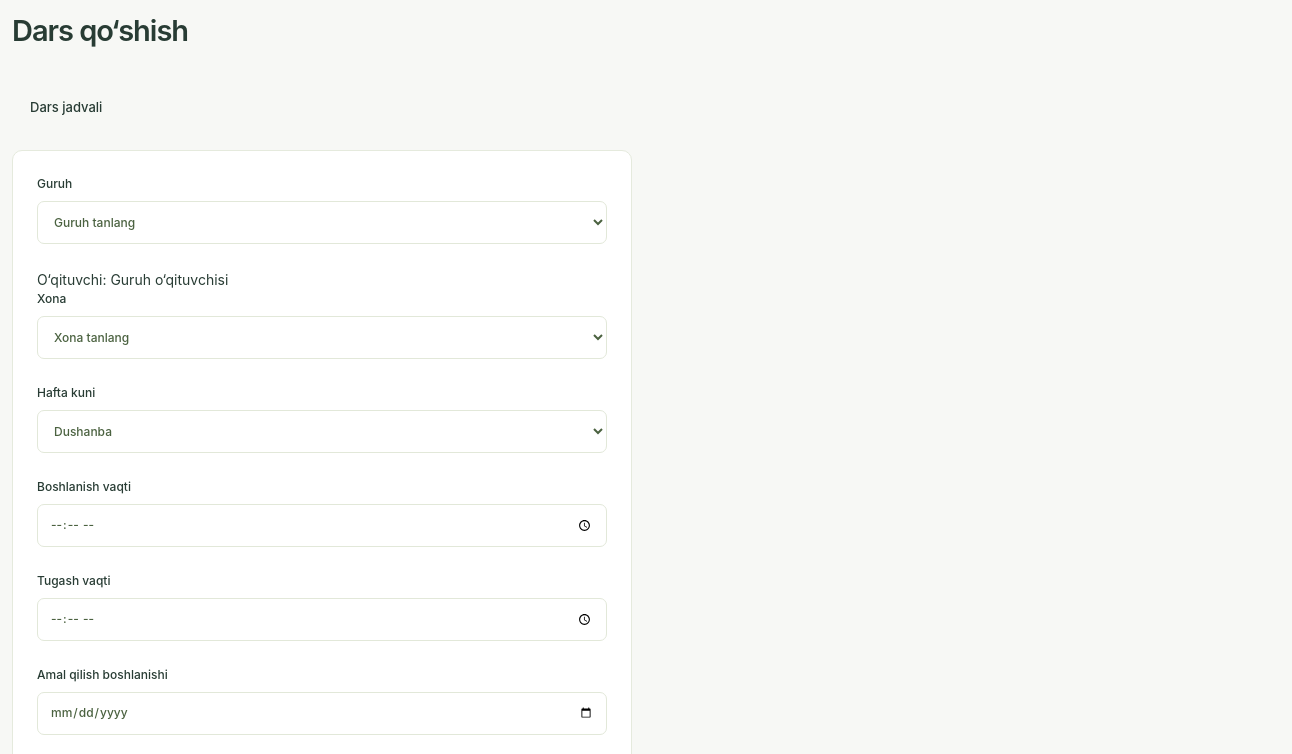
it: derives teacher from selected group and displays conflict messages
Select "Test guruh" in the dropdown labelled "Guruh": (322, 222) x1=37 y1=201 x2=607 y2=244
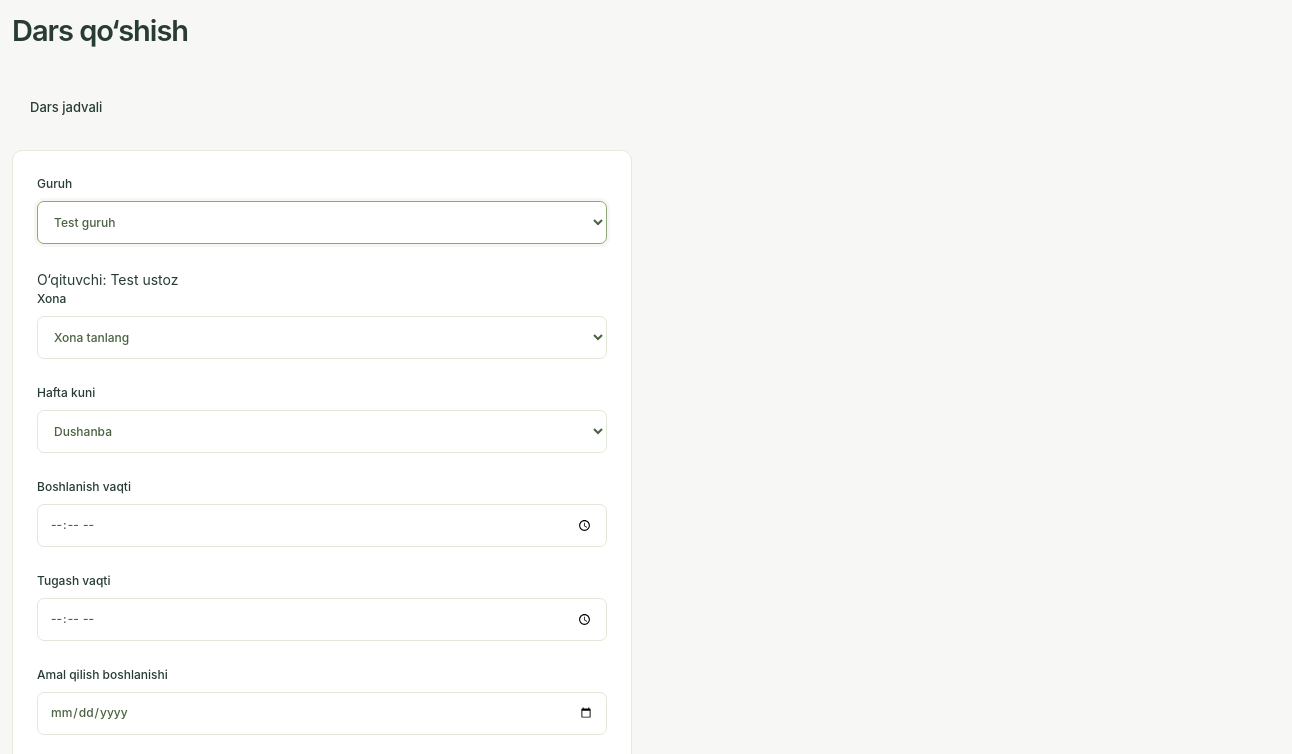
Select "Test xona" in the dropdown labelled "Xona": (322, 337) x1=37 y1=316 x2=607 y2=359
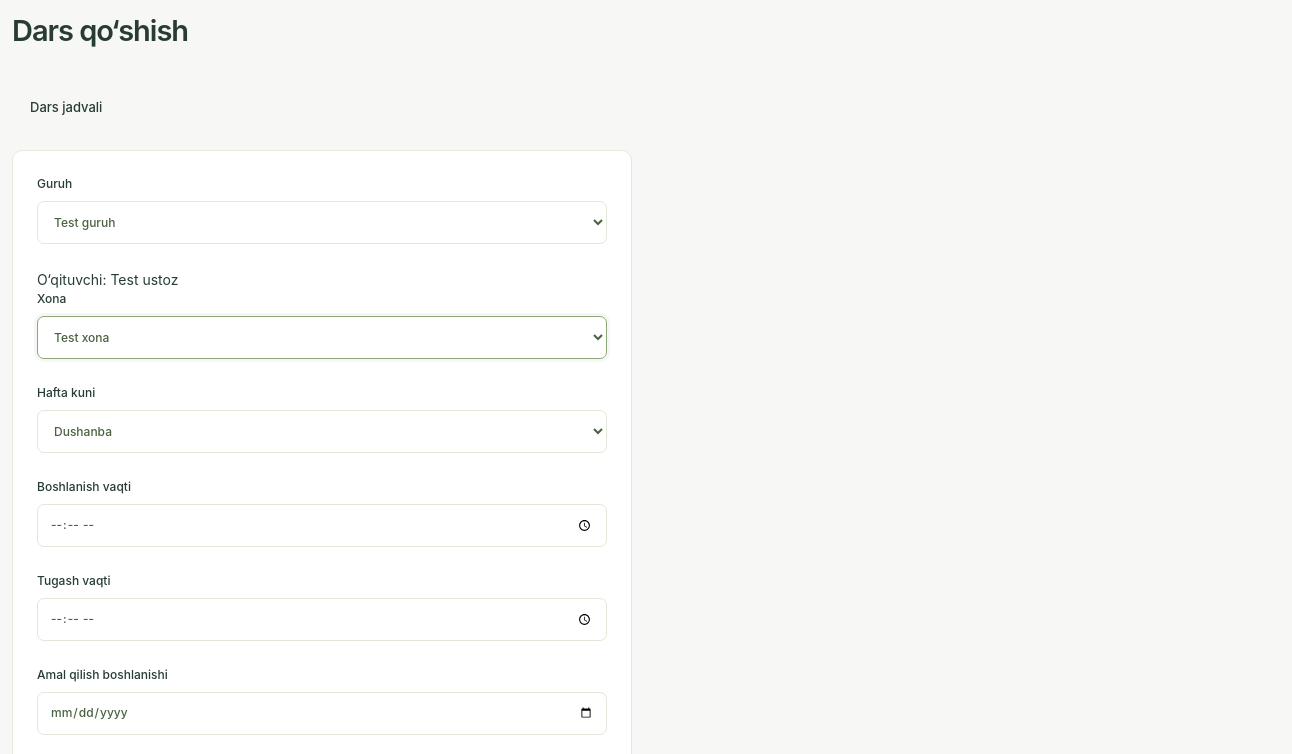
In the time field labelled "Boshlanish vaqti": (322, 525) x1=37 y1=504 x2=607 y2=547, type "10:00"
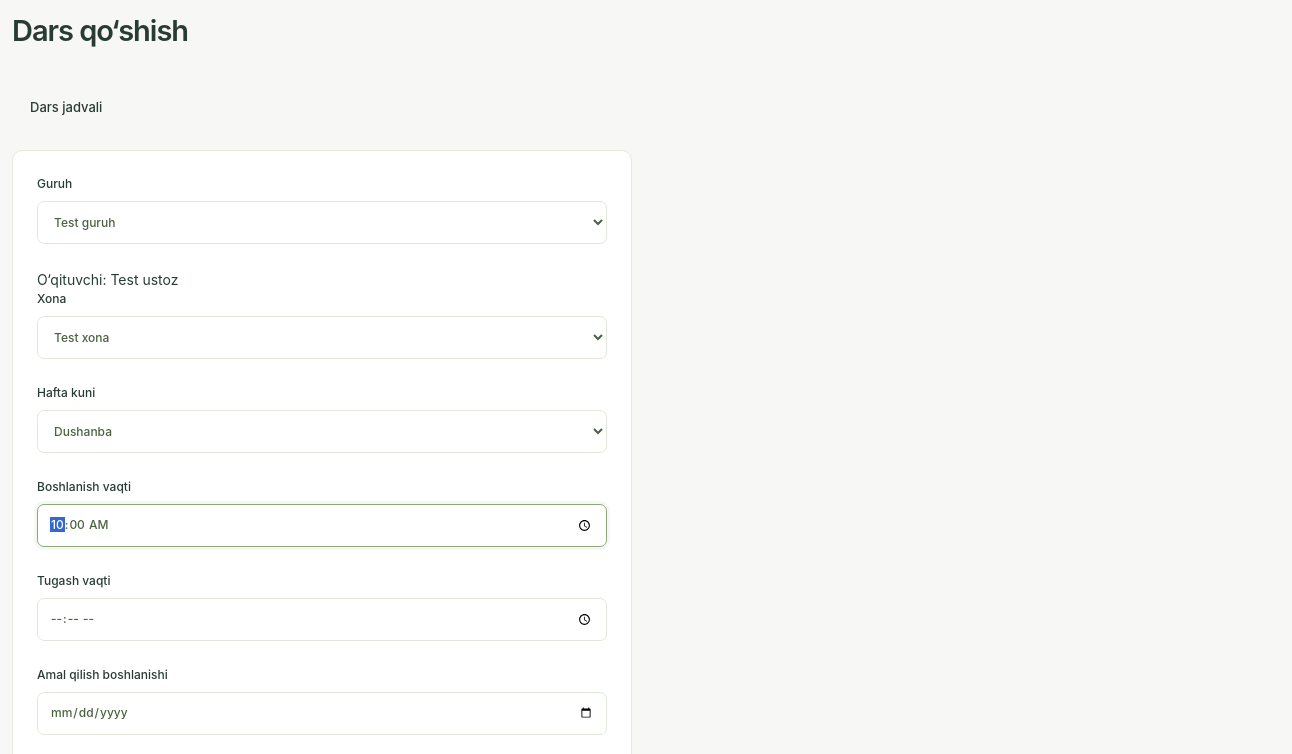
In the time field labelled "Tugash vaqti": (322, 619) x1=37 y1=598 x2=607 y2=641, type "11:00"
(page scrolled)
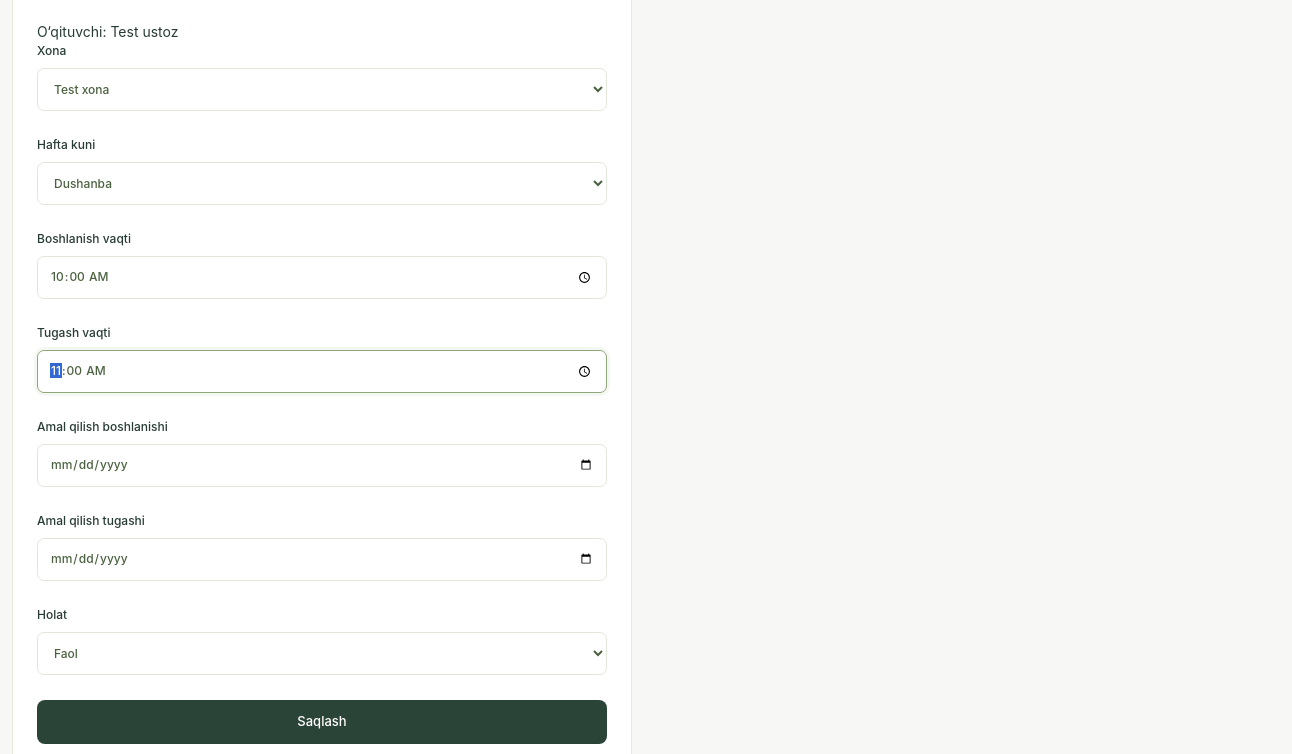
Click the button "Saqlash": click(322, 722) x1=37 y1=700 x2=607 y2=744
(page scrolled)
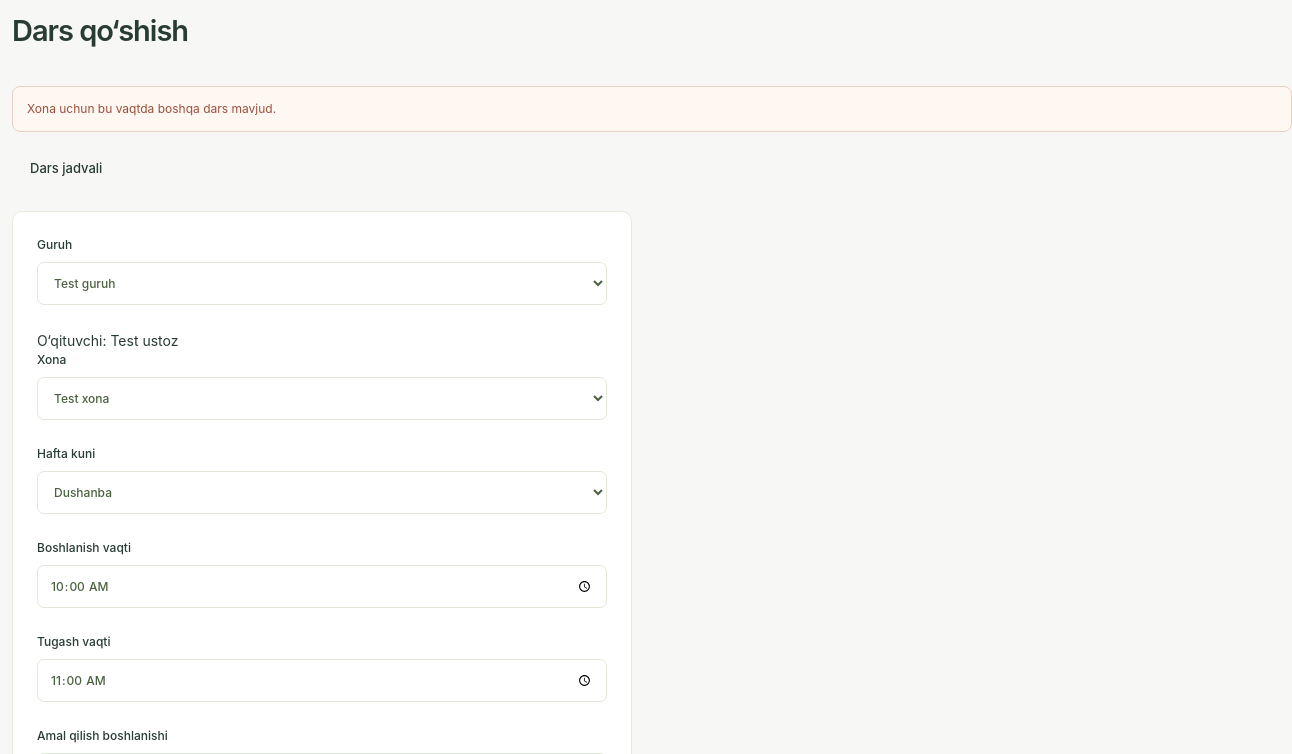
Expected: the message shows "Xona uchun", x1=27 y1=101 x2=276 y2=116
